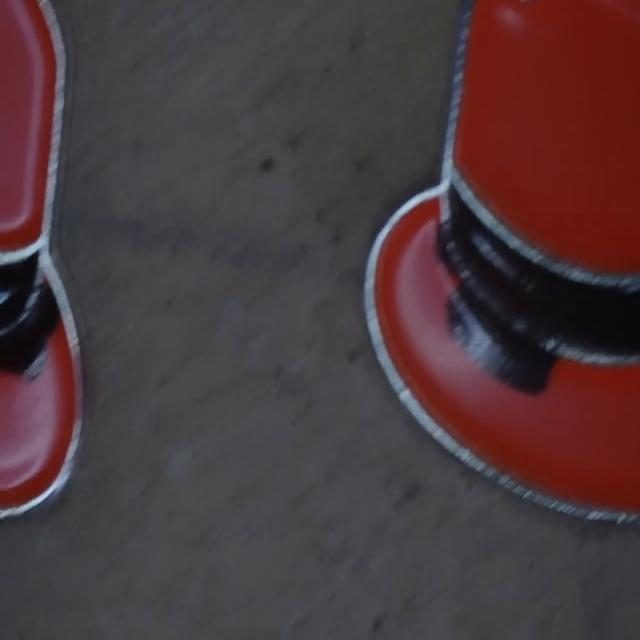Hatband: (440, 189, 640, 363), (0, 253, 38, 332)
Paint_Leak: (449, 289, 555, 393), (0, 280, 60, 373)
RedHatPin: (365, 2, 640, 520), (0, 0, 82, 517)
